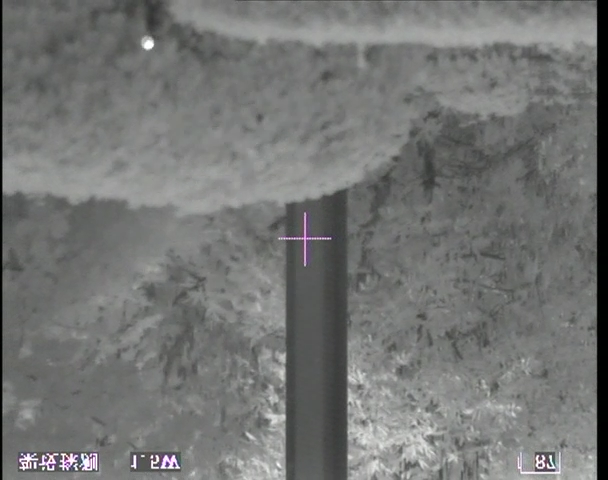my: (139, 34, 155, 52)
